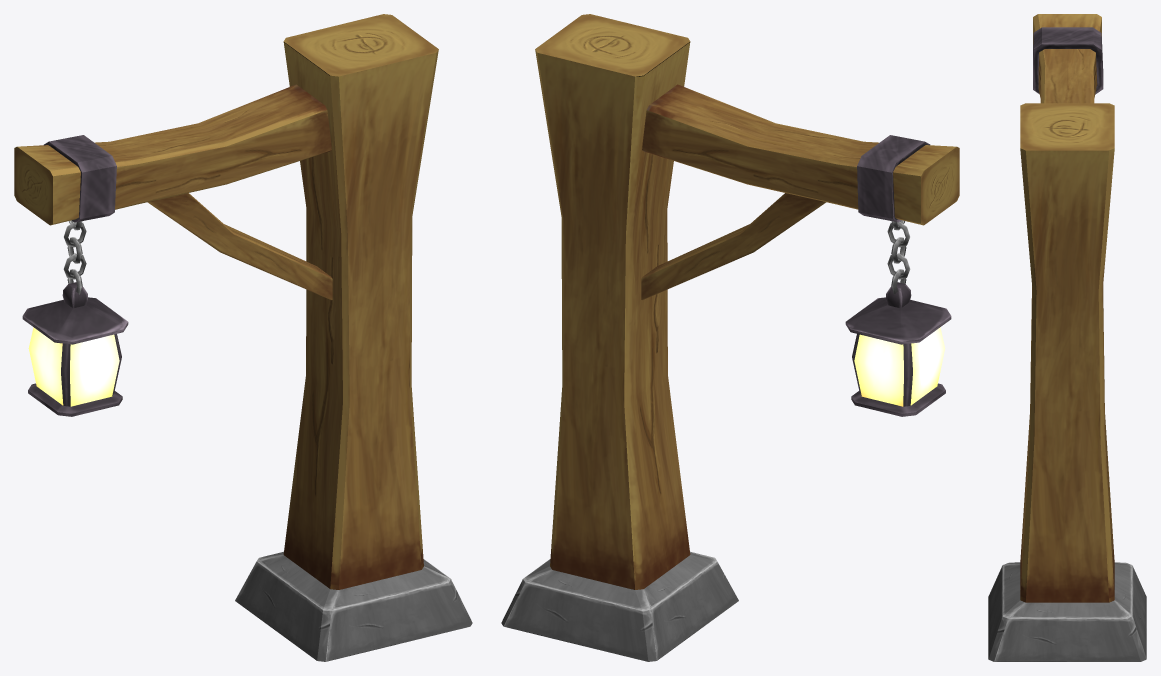
The model's file is Farol.FBX.
3 renders of one model, left to right at view 1: azimuth 30°, elevation 25°; view 2: azimuth 150°, elevation 25°; view 3: azimuth 270°, elevation 25°, orthographic. The views are drawn at different scales.
Visible parts, largest first — view 1: Box002; view 2: Box002; view 3: Box002.
Part boxes in pixels (x1,y1,x2,y2): Box002: [14, 14, 472, 661]; Box002: [501, 14, 959, 661]; Box002: [988, 14, 1146, 661].
Bounding box in the file's own units: 1.59 × 2.16 × 0.613.
